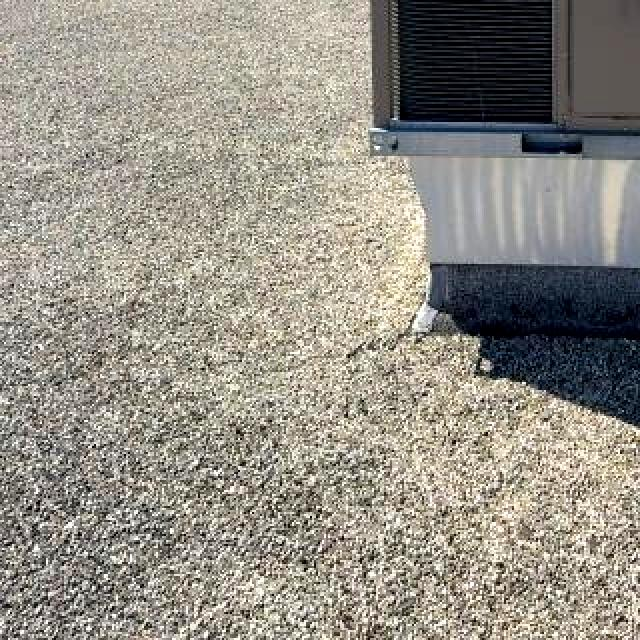RTU: (354, 0, 640, 194)
